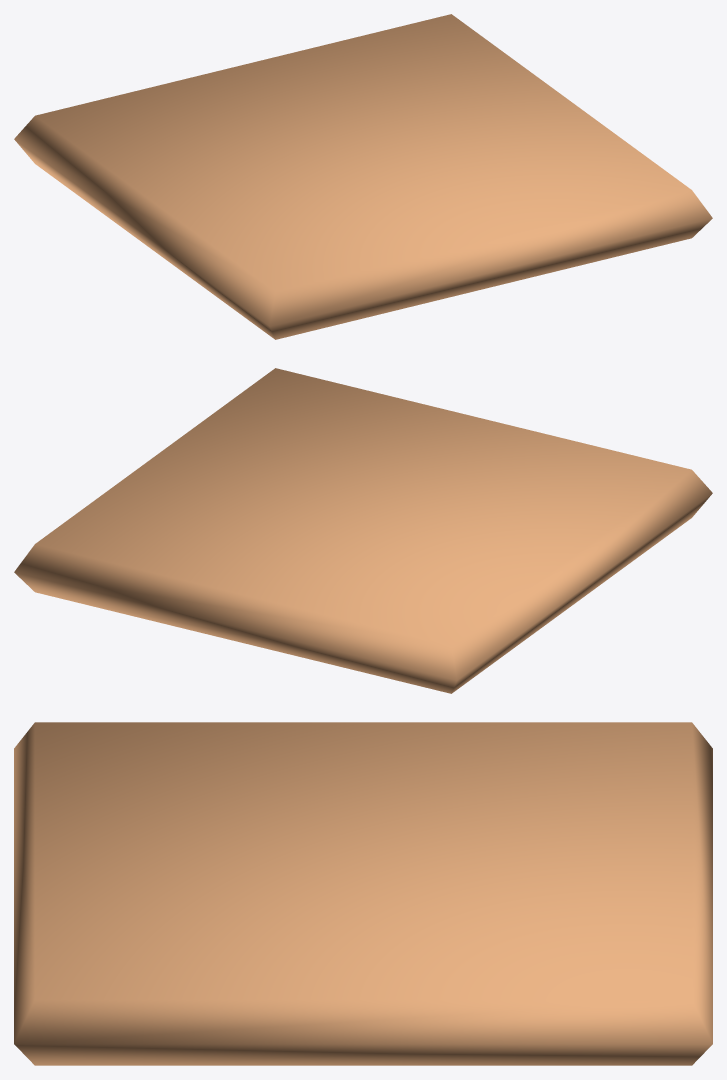
File: piadina_integrale_max.fbx
The picture shows the model from 3 angles, top to bottom: view 1: azimuth 30°, elevation 25°; view 2: azimuth 150°, elevation 25°; view 3: azimuth 270°, elevation 25°; orthographic projection. The views are drawn at different scales.
Parts seen in each view (by area): view 1: integraleMax; view 2: integraleMax; view 3: integraleMax.
Boxes of the visible parts, x1=… form: integraleMax: x1=14, y1=14, x2=712, y2=339; integraleMax: x1=14, y1=368, x2=712, y2=693; integraleMax: x1=14, y1=722, x2=712, y2=1065.
Bounding box in the file's own units: 213 × 22.14 × 213.
